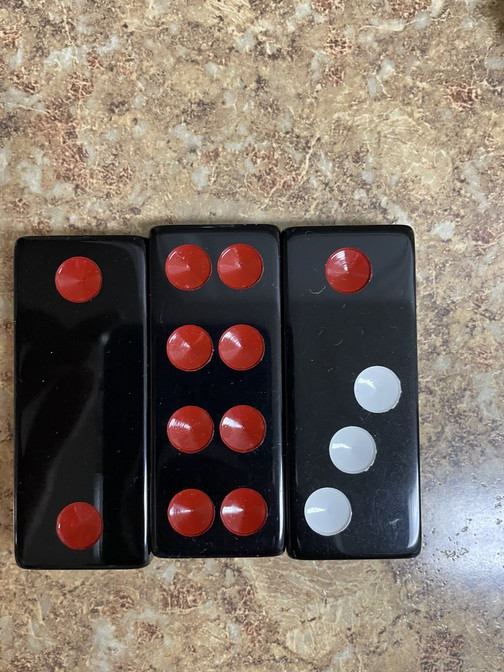earth: (13, 234, 150, 571)
goose: (286, 227, 426, 559)
man: (150, 226, 285, 557)
